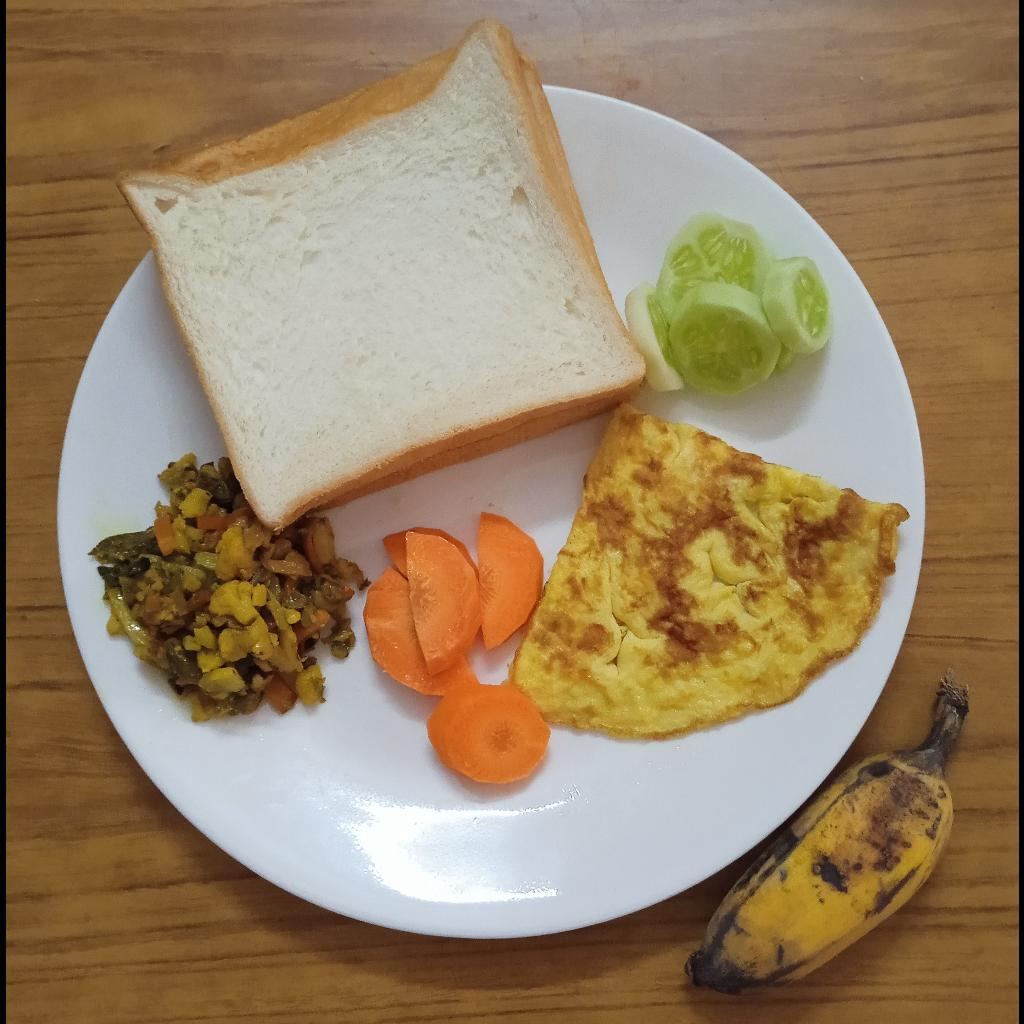banana: (680, 667, 971, 997)
bread: (113, 17, 647, 535)
carrot: (361, 512, 550, 783)
cucumber: (624, 211, 831, 396)
egg-poached: (506, 405, 910, 743)
vegetable: (88, 453, 370, 722)
